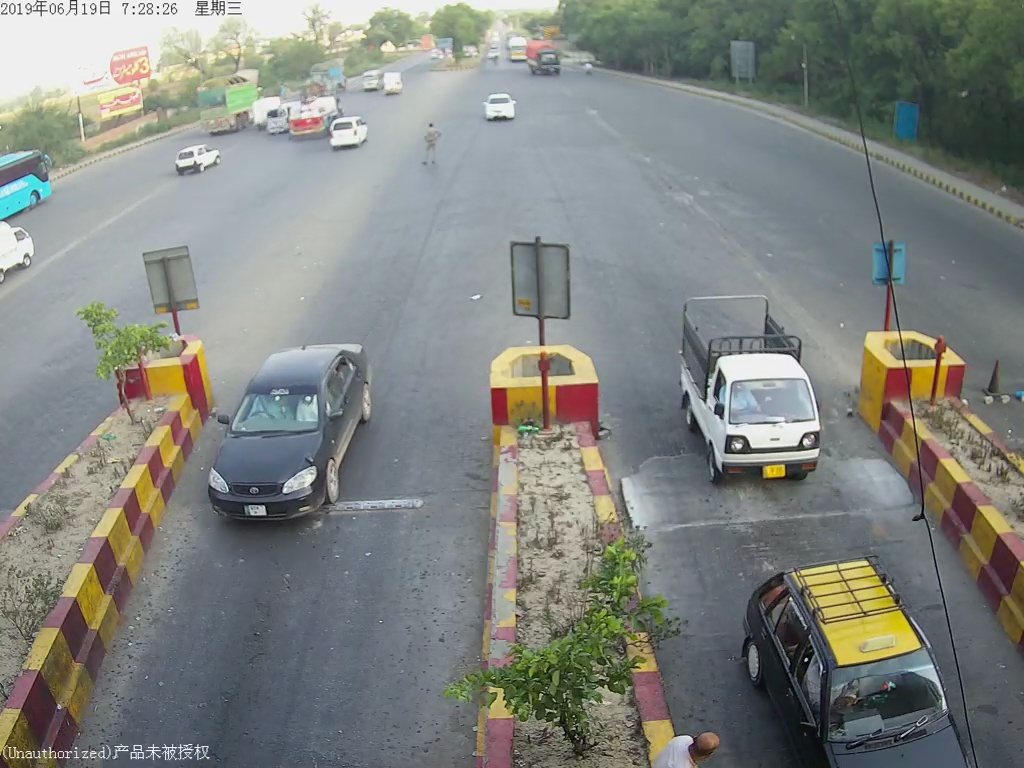Cat-1: (743, 559, 964, 768), (205, 340, 393, 541), (671, 284, 836, 493)
